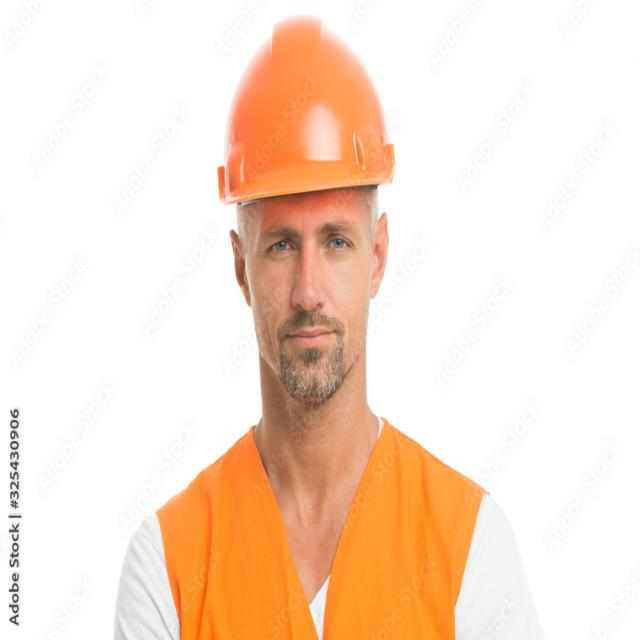helmet: (215, 12, 398, 213)
no-goggles: (232, 218, 382, 274)
vest: (151, 419, 494, 640)
